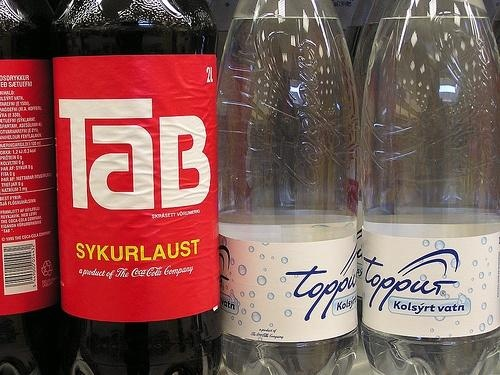bottle: (54, 1, 220, 374), (359, 1, 500, 373), (217, 2, 357, 373), (1, 1, 53, 375)
